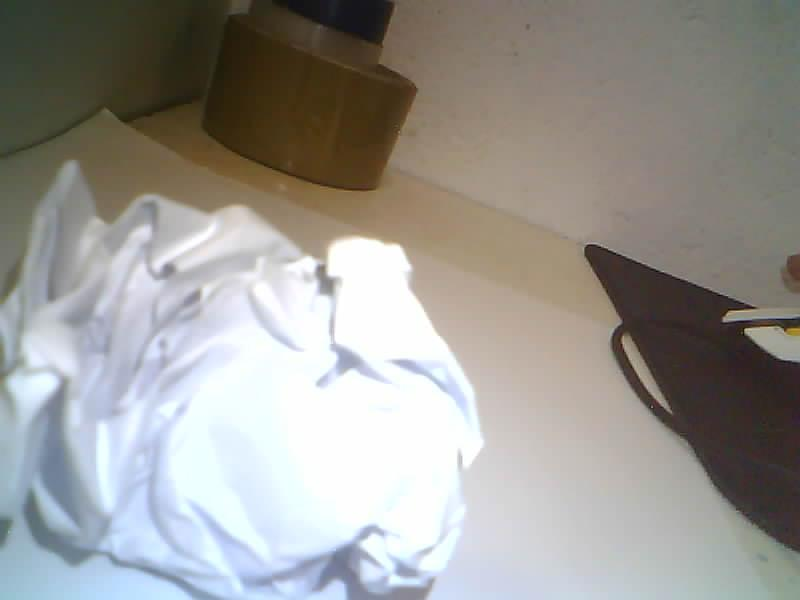biodegradable: (0, 163, 480, 599)
